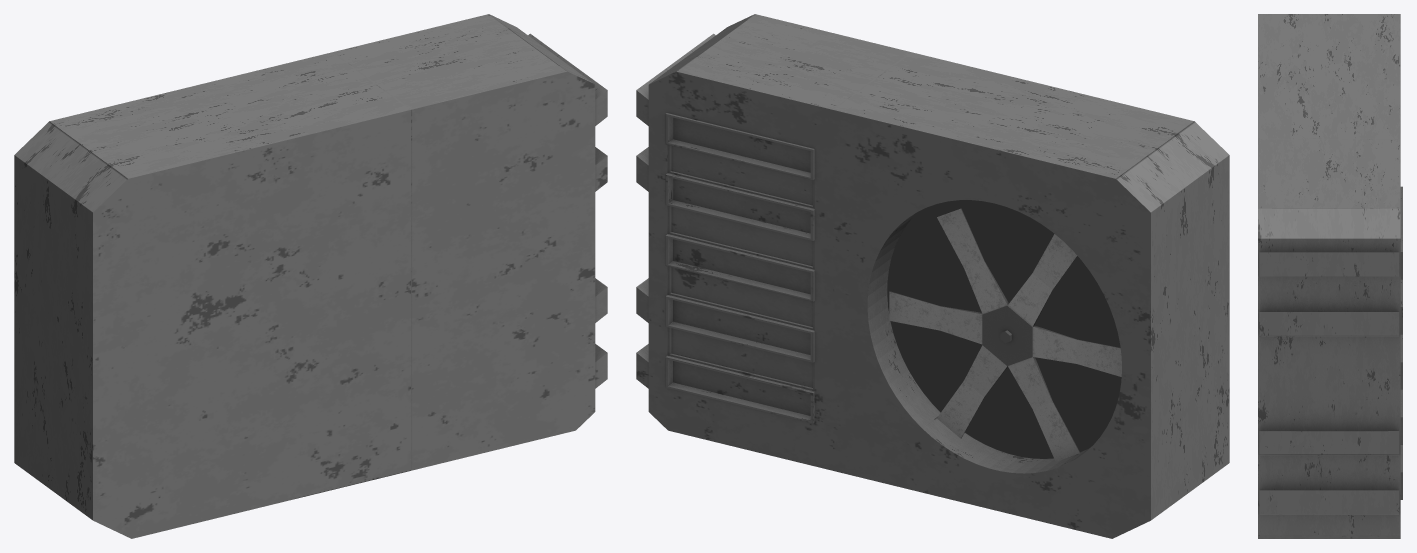
The model's file is aircon.glb.
The picture shows the model from 3 angles, left to right: view 1: azimuth 30°, elevation 25°; view 2: azimuth 150°, elevation 25°; view 3: azimuth 270°, elevation 25°; orthographic projection. The views are drawn at different scales.
Visible parts, largest first — view 1: Cube; view 2: Cube, fan; view 3: Cube.
Part boxes in pixels (bbox=[...]): Cube: bbox=[14, 14, 607, 538]; Cube: bbox=[636, 14, 1229, 538]; fan: bbox=[889, 208, 1121, 461]; Cube: bbox=[1258, 14, 1402, 538].
Bounding box in the file's own units: 1.41 × 0.9406 × 0.3778.
3 materials, 2 textured.
